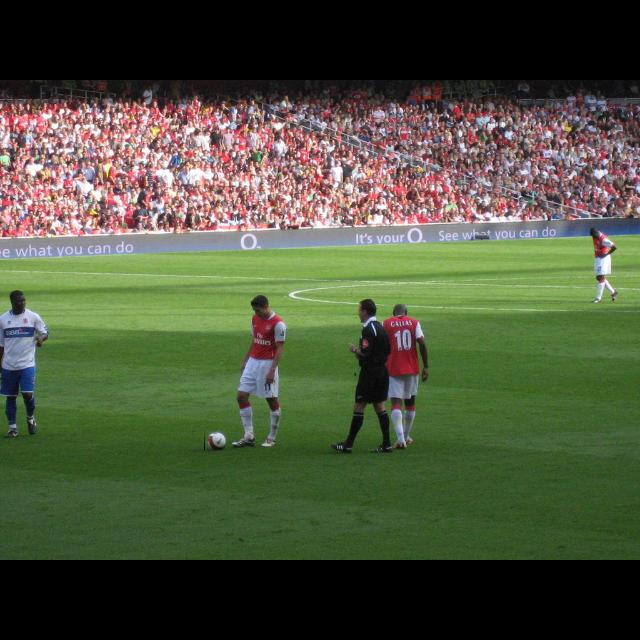Football: (204, 430, 226, 450)
